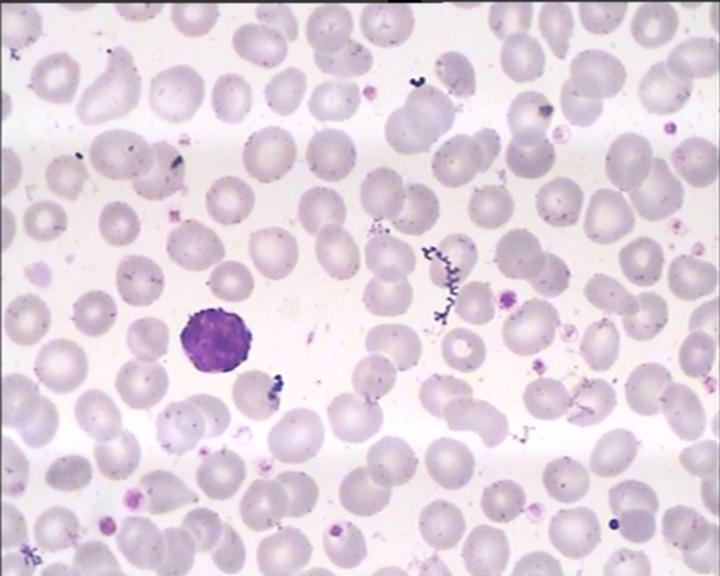baso: (174, 300, 255, 374)
